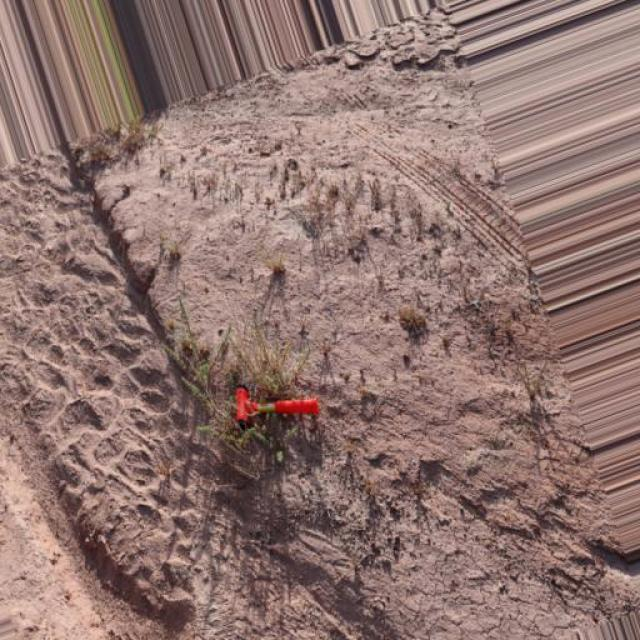mallet: (232, 384, 318, 430)
